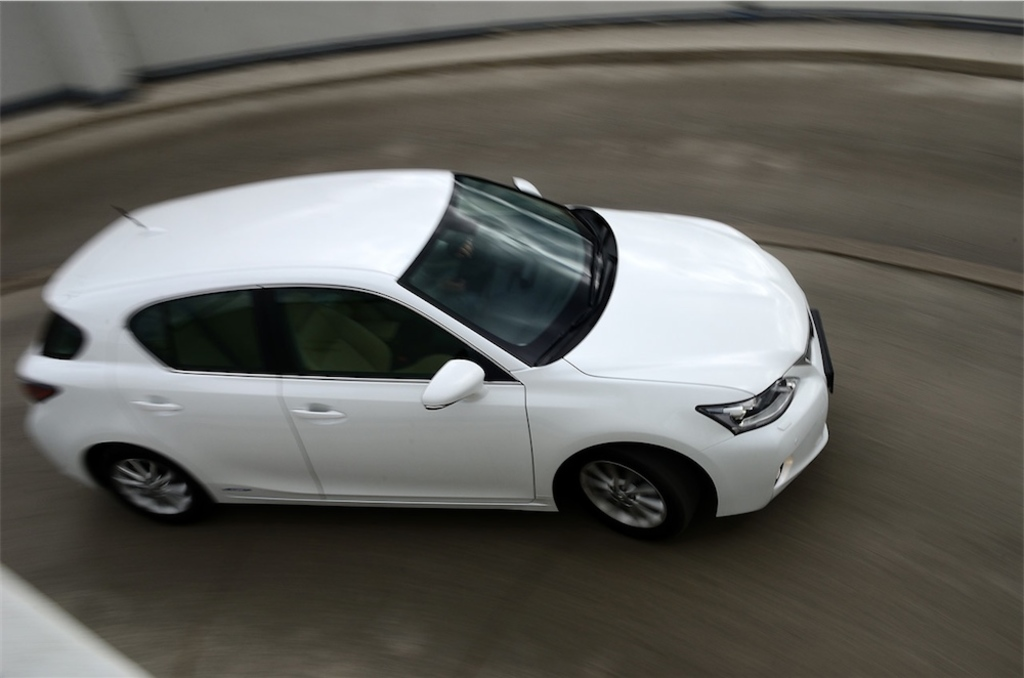Car: (25, 170, 822, 560)
